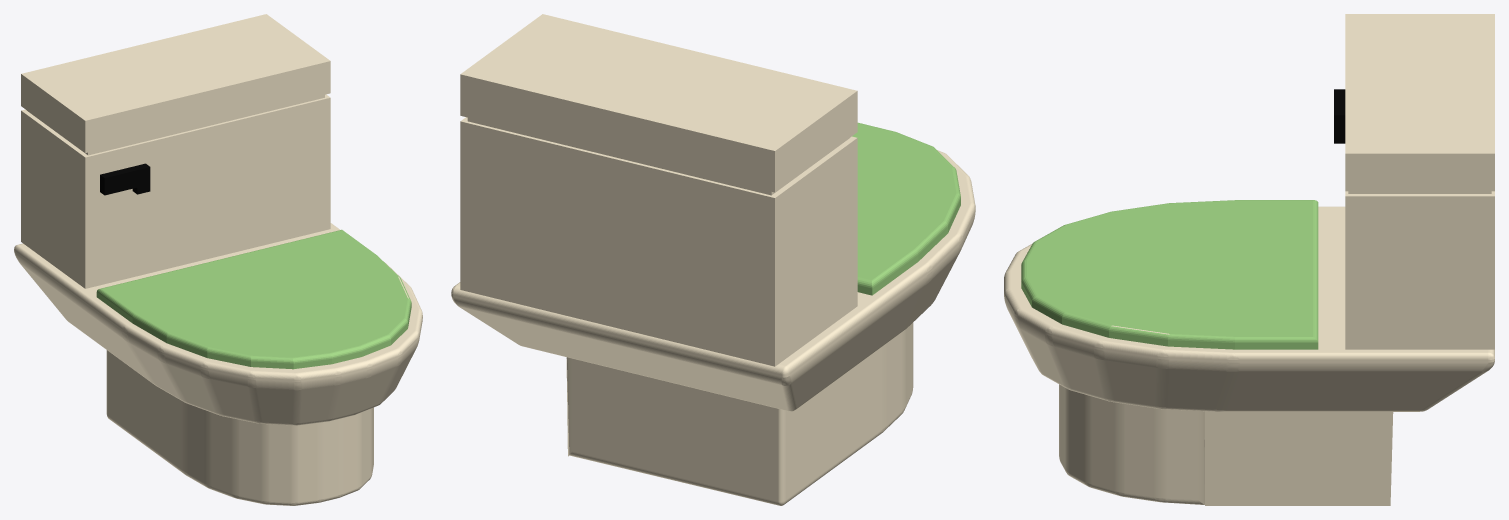
The model's file is inidoro.fbx.
3 renders of one model, left to right at view 1: azimuth 30°, elevation 25°; view 2: azimuth 150°, elevation 25°; view 3: azimuth 270°, elevation 25°, orthographic. The views are drawn at different scales.
Parts seen in each view (by area): view 1: Cube; view 2: Cube; view 3: Cube.
Boxes of the visible parts, x1,y1,x2,y2 form: Cube: (14,14,422,505); Cube: (451,14,975,505); Cube: (1004,14,1494,505).
Size of the model in its own units: 183 by 213 by 253.
